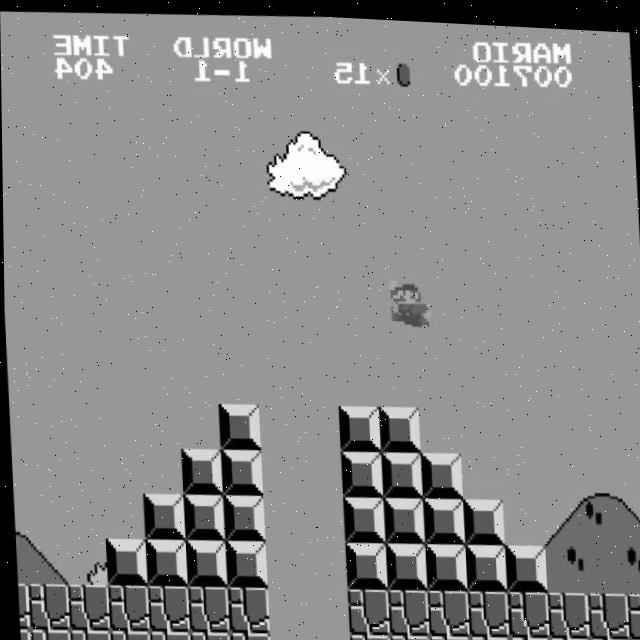11- little_mario: (387, 272, 433, 324)
17- undestructible_block: (25, 582, 69, 631), (585, 585, 628, 634), (545, 585, 588, 634), (505, 584, 548, 633), (465, 584, 508, 633), (425, 584, 468, 633), (385, 584, 428, 633), (345, 584, 388, 633), (225, 583, 268, 632), (185, 583, 228, 632), (105, 582, 148, 631), (65, 582, 108, 631), (145, 583, 188, 631), (625, 585, 640, 633), (16, 582, 29, 629), (107, 627, 149, 640), (67, 627, 109, 640), (27, 627, 69, 640), (227, 628, 269, 640), (187, 628, 229, 640), (147, 628, 189, 640), (387, 629, 429, 640), (347, 629, 389, 640), (547, 630, 589, 640), (507, 630, 549, 640), (467, 630, 509, 640), (427, 630, 469, 640), (587, 631, 629, 640), (17, 628, 29, 640), (627, 630, 640, 640)
9- hard_block: (418, 447, 462, 495), (376, 401, 420, 449), (336, 401, 380, 449), (216, 400, 260, 448), (503, 538, 546, 587), (463, 538, 506, 587), (421, 492, 464, 541), (423, 538, 466, 587), (381, 492, 424, 541), (383, 538, 426, 587), (341, 492, 384, 541), (221, 491, 264, 540), (223, 537, 266, 586), (181, 491, 224, 540), (141, 491, 184, 540), (103, 536, 146, 585), (378, 447, 422, 494), (461, 493, 504, 541), (343, 538, 386, 586), (183, 537, 226, 585), (143, 537, 186, 585), (339, 447, 382, 494), (219, 446, 262, 493), (179, 446, 222, 493)
